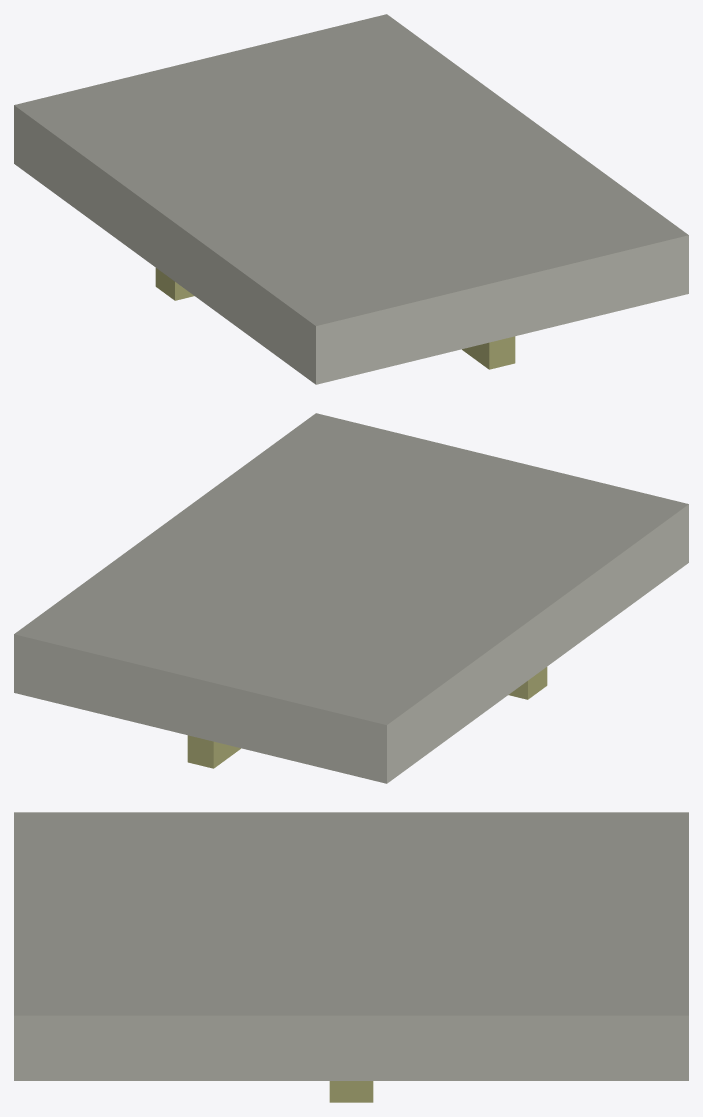
File: SM_AndenLosa_Central_v4_Quemada_LOD1.fbx
3 views of the same model, one above another, from view 1: azimuth 30°, elevation 25°; view 2: azimuth 150°, elevation 25°; view 3: azimuth 270°, elevation 25° (orthographic). The views are drawn at different scales.
Parts seen in each view (by area): view 1: Losa; view 2: Losa; view 3: Losa.
Boxes of the visible parts, x1,y1,x2,y2 form: Losa: (14, 14, 688, 384); Losa: (14, 413, 688, 783); Losa: (14, 812, 688, 1102).
Size of what is drawn, in the model's own units: 9.98 by 2.2 by 14.
